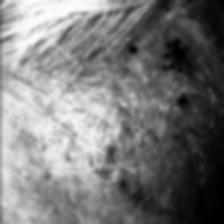Potentially Malignant Skin Tumors: (168, 45, 183, 63)
